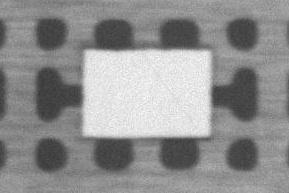DIE_CRACK: (214, 36, 289, 85)
